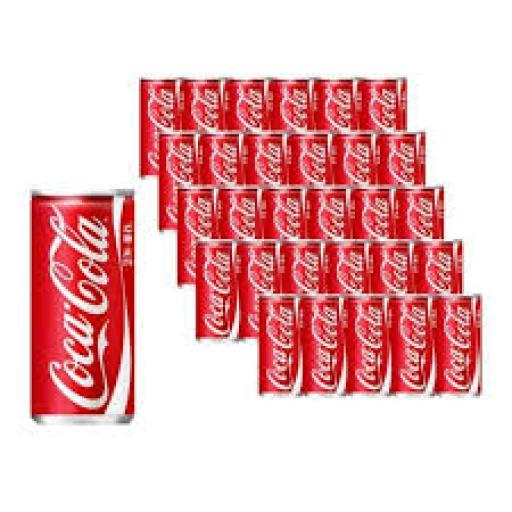Coca: (23, 182, 136, 435), (355, 75, 409, 185), (258, 186, 309, 296), (255, 290, 305, 402), (284, 124, 336, 228), (434, 294, 483, 404), (282, 233, 330, 344), (350, 179, 397, 289), (414, 233, 461, 342), (375, 126, 426, 223), (348, 290, 392, 402), (191, 234, 237, 341), (400, 188, 451, 284), (171, 180, 218, 283), (330, 126, 378, 226), (391, 293, 435, 402), (306, 289, 348, 399), (328, 235, 372, 340), (267, 75, 312, 177), (240, 236, 282, 345), (219, 182, 263, 286), (180, 76, 223, 182), (313, 76, 356, 182), (201, 128, 247, 226), (155, 128, 197, 234), (224, 76, 267, 177), (138, 72, 180, 173), (370, 233, 410, 335), (310, 185, 348, 289), (246, 130, 286, 224)
